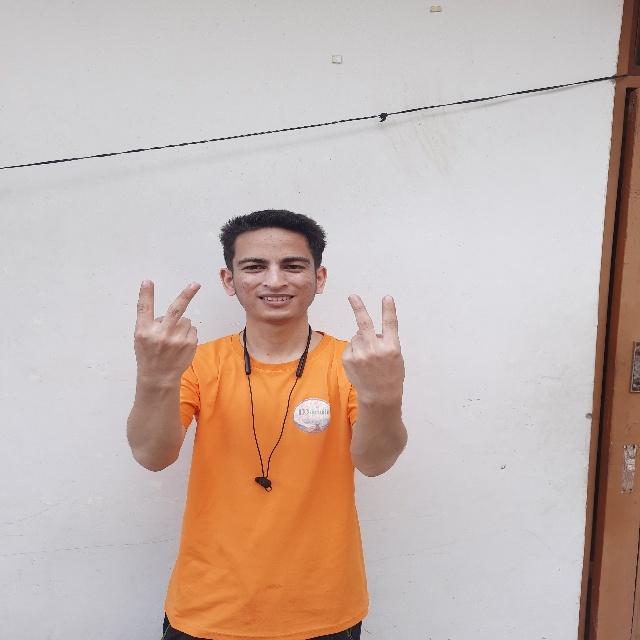Reversed Victory: (128, 275, 208, 393), (334, 284, 411, 406)
